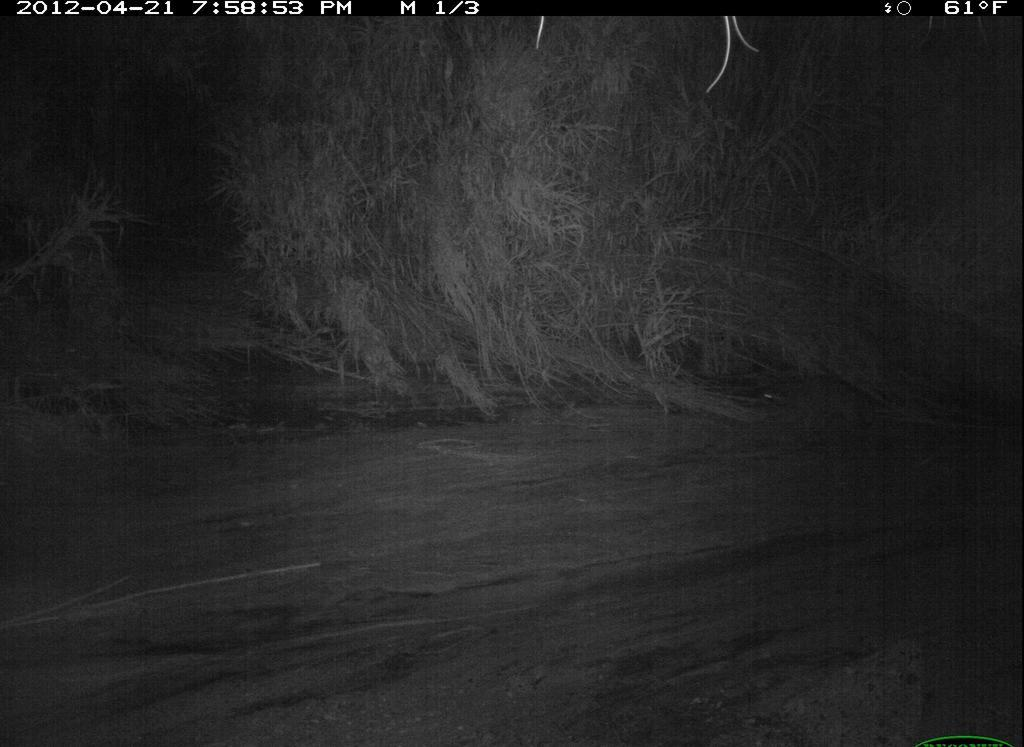raccoon: (748, 361, 882, 443)
